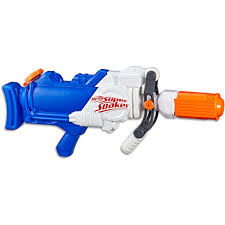Arma Falsa: (1, 65, 224, 160)
